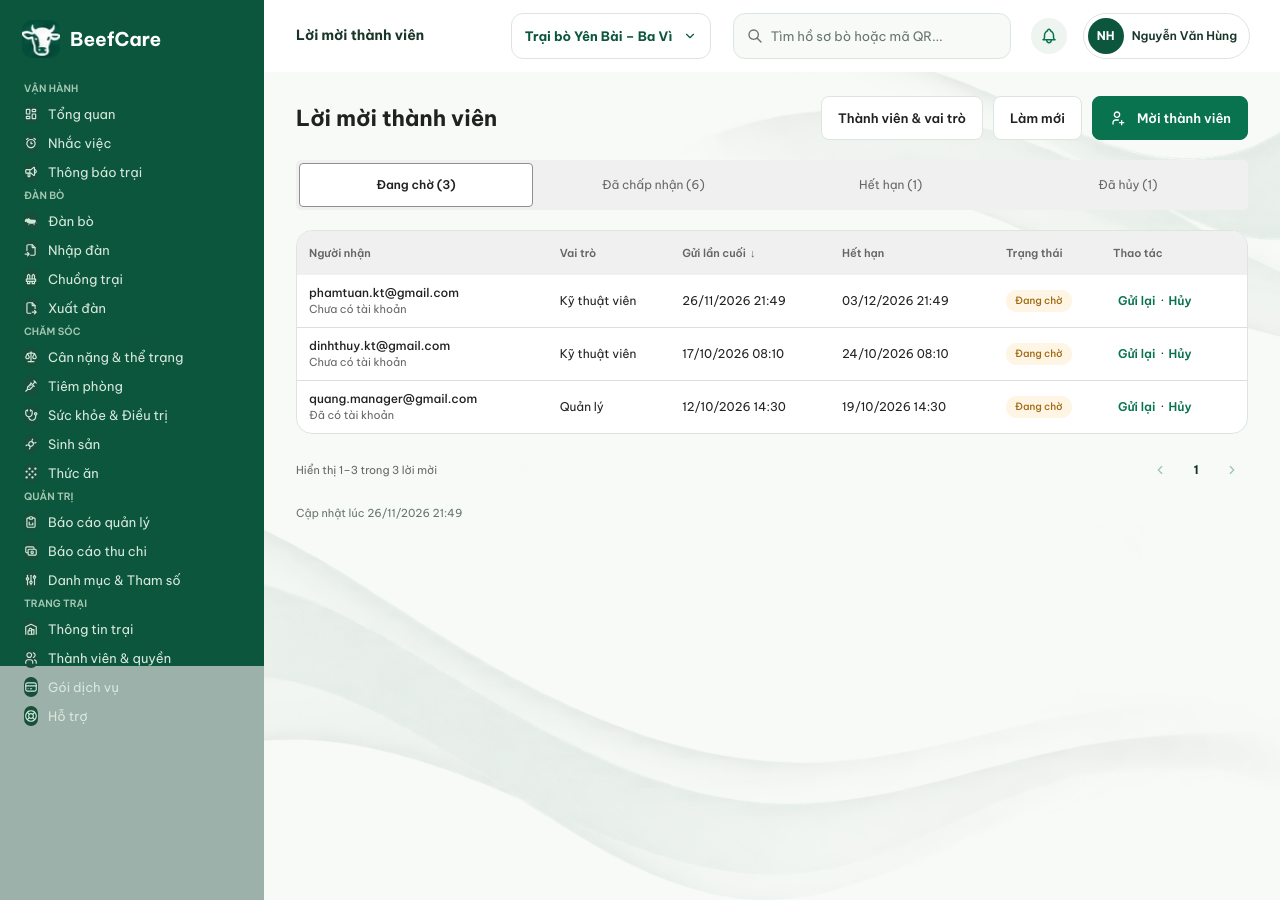
Test: Farm Invitations › cancels a pending invitation after confirmation
Expected: the text "dinhthuy.kt@gmail.com" is shown, [309,338,450,353]
Click the button "Hủy" in the row of "phamtuan.kt@gmail.com" at (1180, 301), box [1164,285,1196,317]
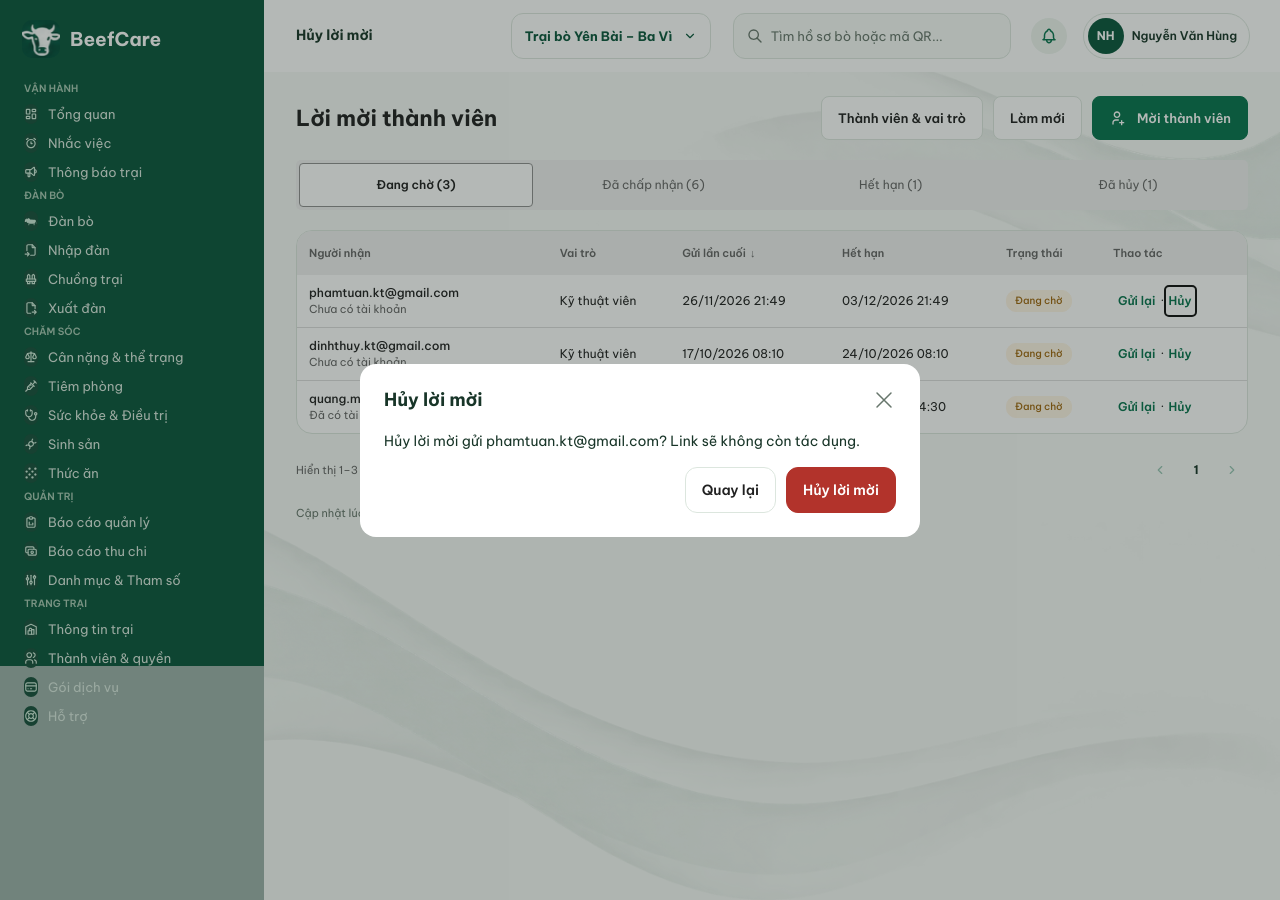
Click the button "Hủy lời mời" at (841, 490), box [786,466,896,512]
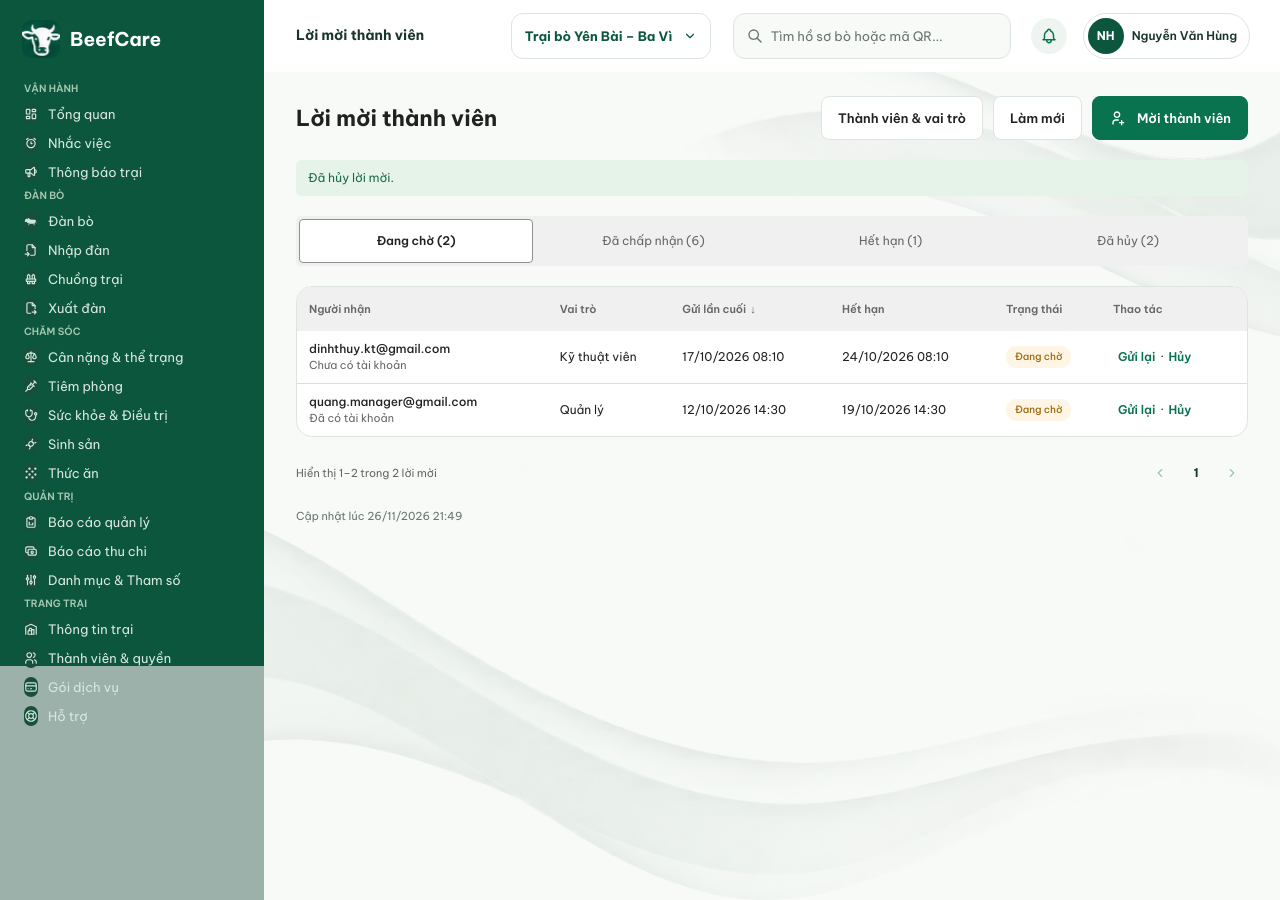
Now the text "Đã hủy lời mời." is shown, box [296,160,1248,196]
Now the button "Đã hủy (2)" is shown, box [1011,219,1245,263]
